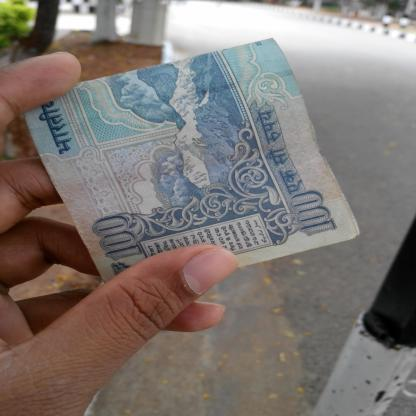Old100Back: (23, 38, 362, 285)
